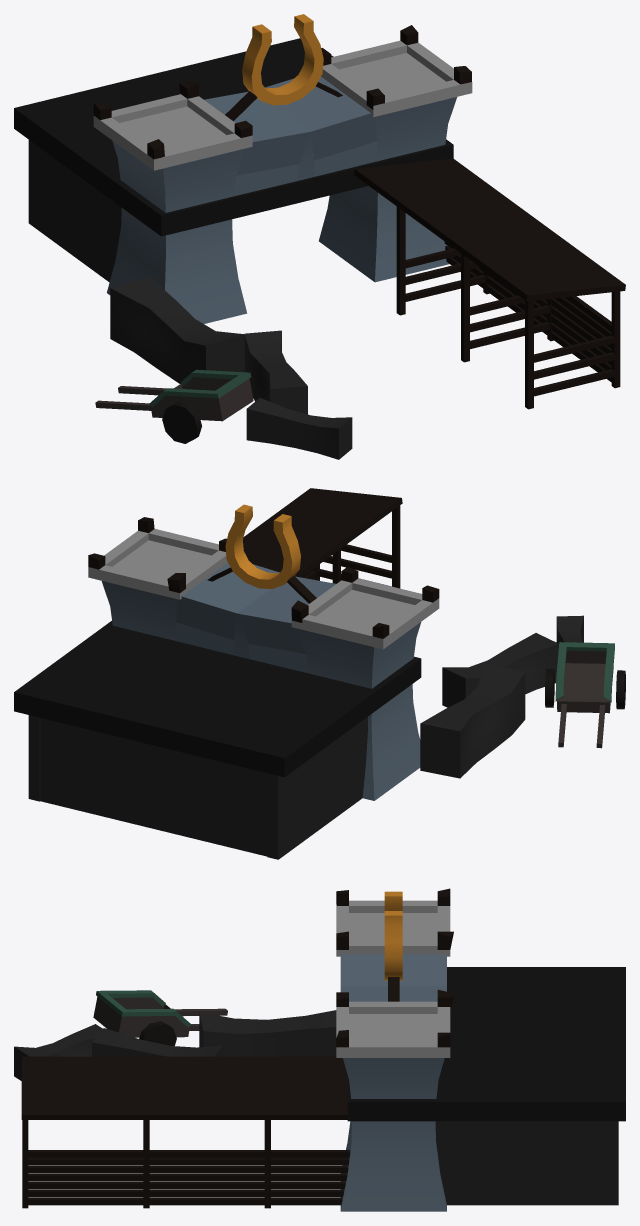
File: Stable_Stage_Final.FBX
3 renders of one model, top to bottom at view 1: azimuth 30°, elevation 25°; view 2: azimuth 150°, elevation 25°; view 3: azimuth 270°, elevation 25°, orthographic. The views are drawn at different scales.
Visible parts, largest first — view 1: Box034; view 2: Box034; view 3: Box034.
Boxes of the visible parts, <box> form: Box034: <box>14,14,625,459</box>; Box034: <box>14,488,625,859</box>; Box034: <box>14,888,625,1211</box>.
Size of the model in its own units: 154 by 86 by 199.
